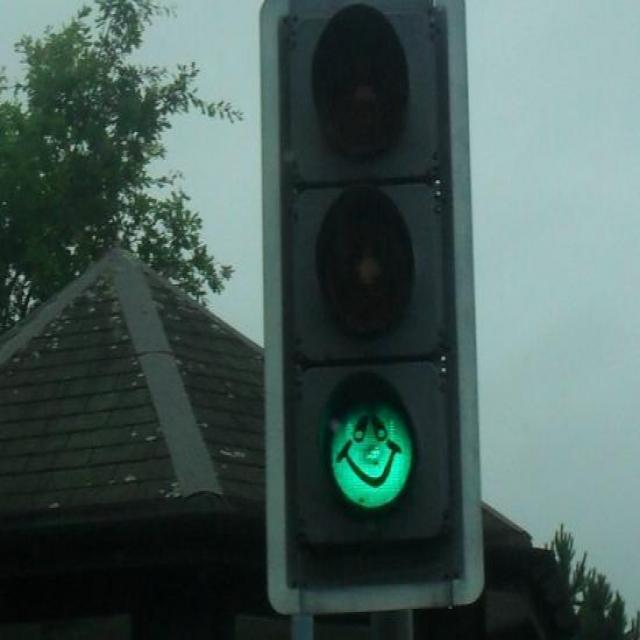green_light: (287, 11, 452, 544)
